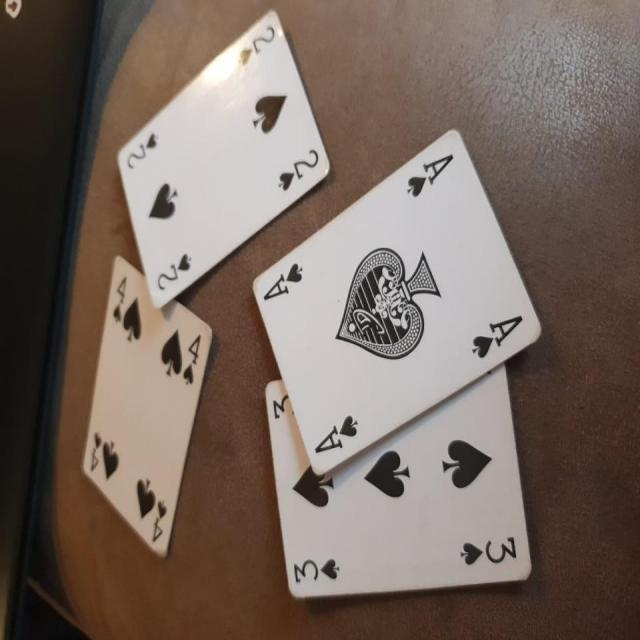2 Spades: (92, 5, 339, 313)
3 Spades: (265, 367, 571, 628)
4 Spades: (69, 256, 223, 560)
A Spades: (243, 123, 554, 478)
